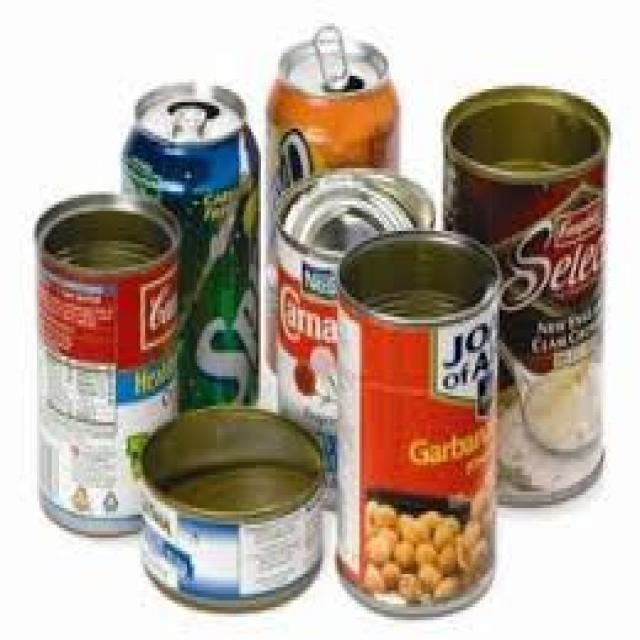recyclable: (442, 83, 612, 512), (334, 228, 502, 618), (273, 162, 437, 518), (32, 190, 182, 542), (263, 25, 401, 377), (120, 78, 262, 420), (142, 406, 325, 616)
